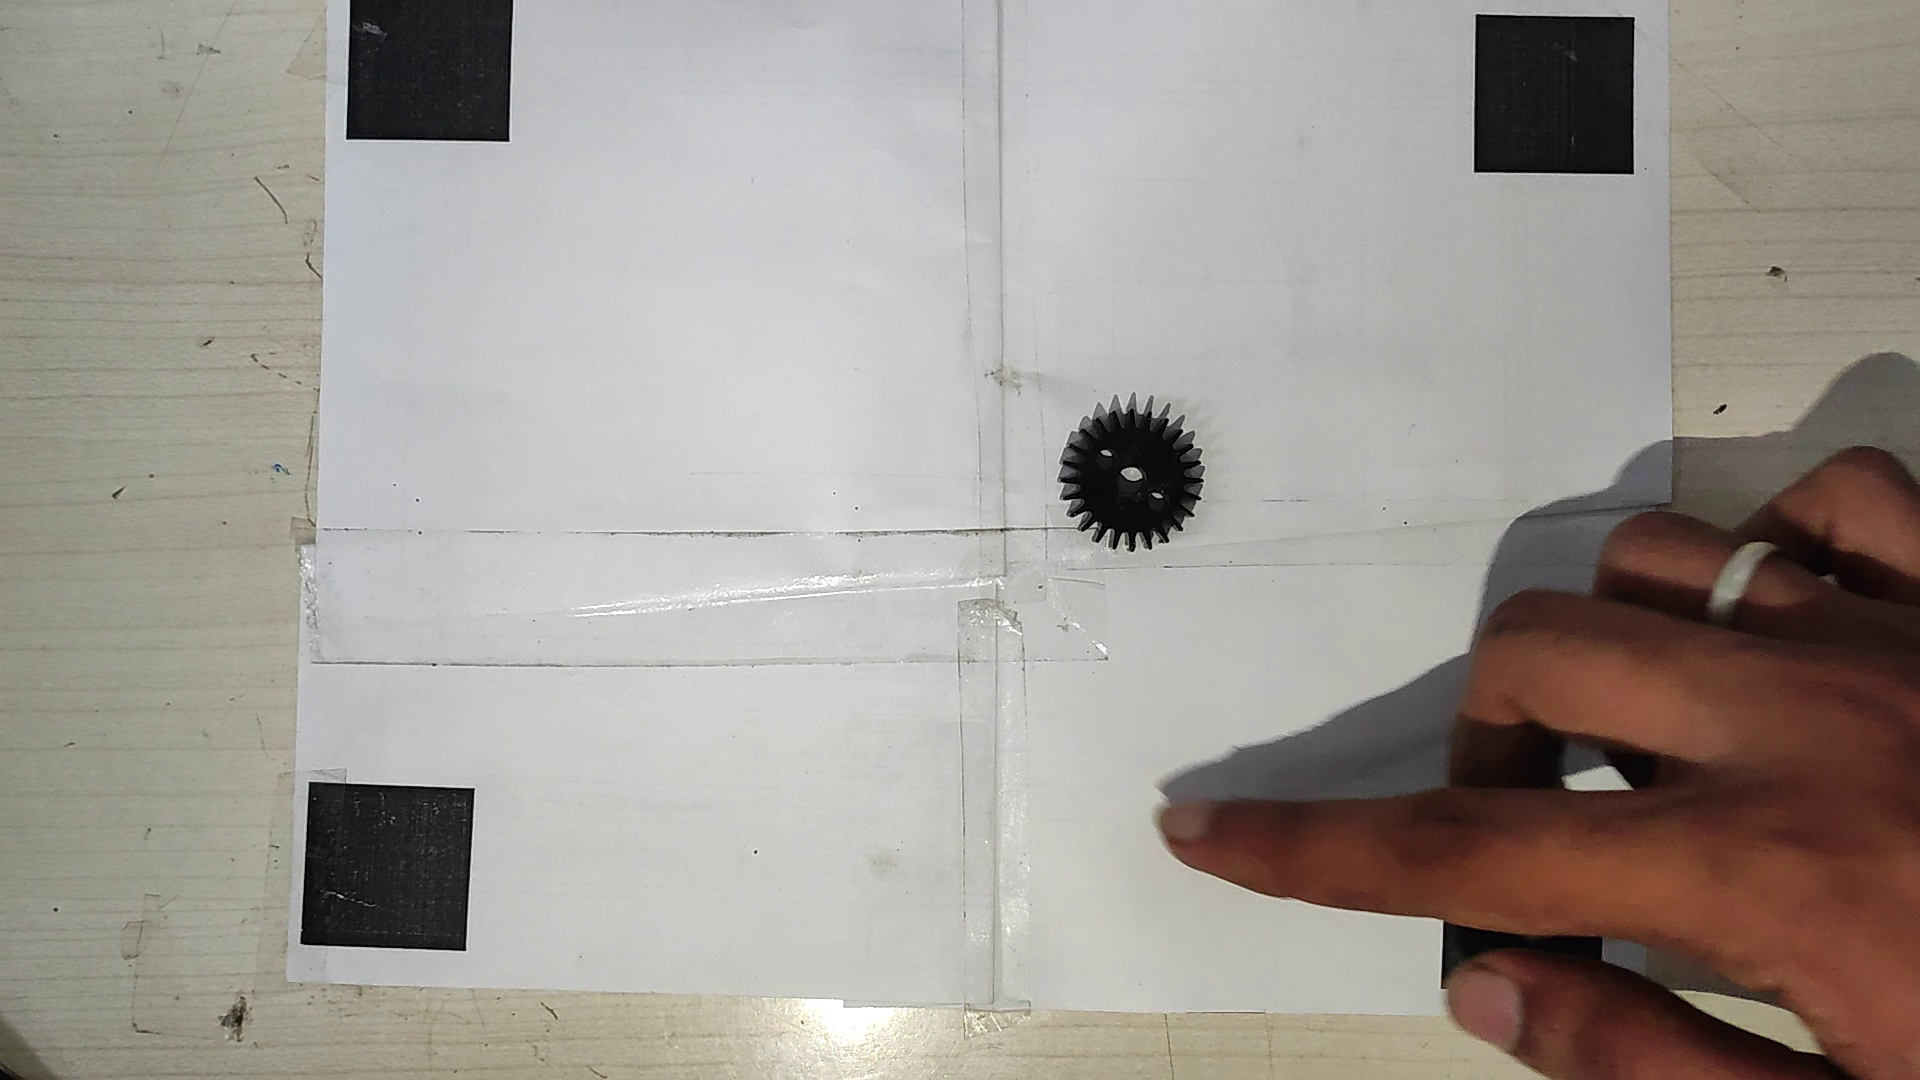Gear: (1056, 393, 1206, 551)
